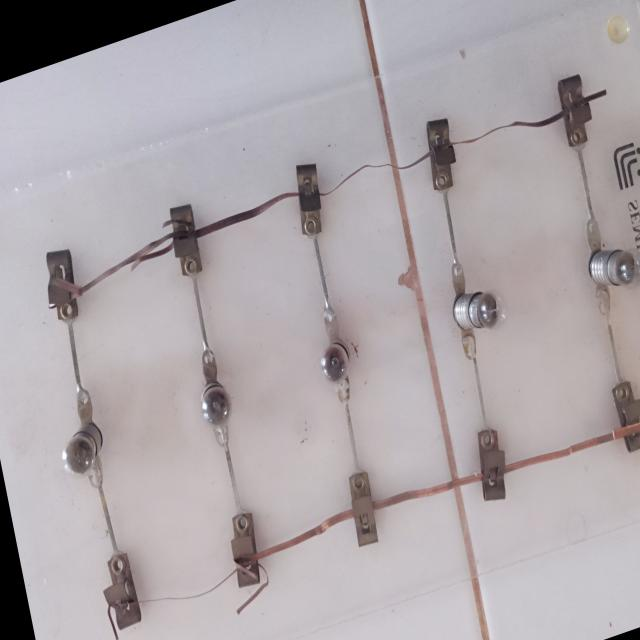Set of Resistors and Bulbs: (12, 41, 640, 640)
